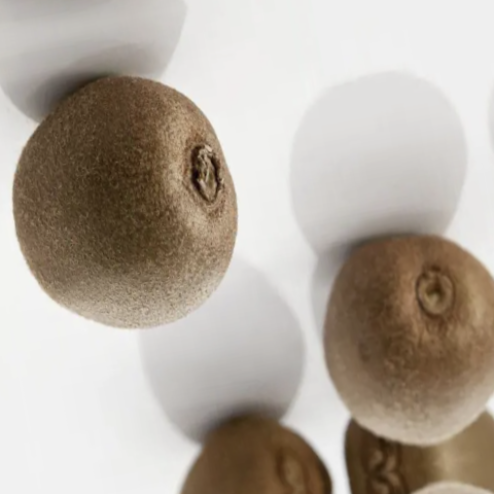kiwi: (0, 40, 280, 371), (276, 198, 494, 467)
